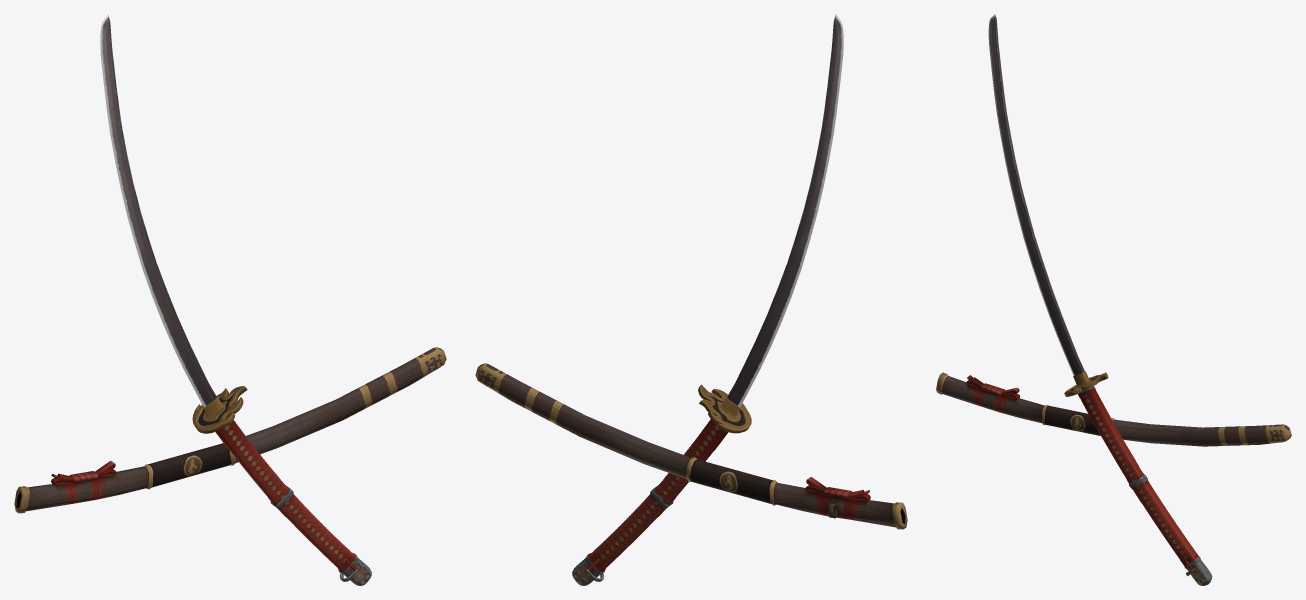
3 renders of one model, left to right at view 1: azimuth 30°, elevation 25°; view 2: azimuth 150°, elevation 25°; view 3: azimuth 330°, elevation 25°, orthographic. The views are drawn at different scales.
Visible parts, largest first — view 1: sw5_common, sw5_scab_common_base; view 2: sw5_common, sw5_scab_common_base; view 3: sw5_common, sw5_scab_common_base.
Boxes of the visible parts, x1,y1,x2,y2 form: sw5_common: (100,14,371,585); sw5_scab_common_base: (14,347,446,513); sw5_common: (572,14,843,585); sw5_scab_common_base: (475,363,907,529); sw5_common: (988,14,1212,585); sw5_scab_common_base: (936,372,1291,446).
Size of the model in its own units: 47.83 by 67.57 by 6.16.
2 materials, 2 textured.
